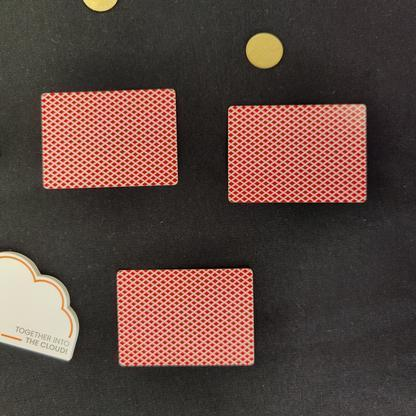card: (212, 93, 378, 213), (25, 79, 191, 196), (101, 258, 265, 376)
